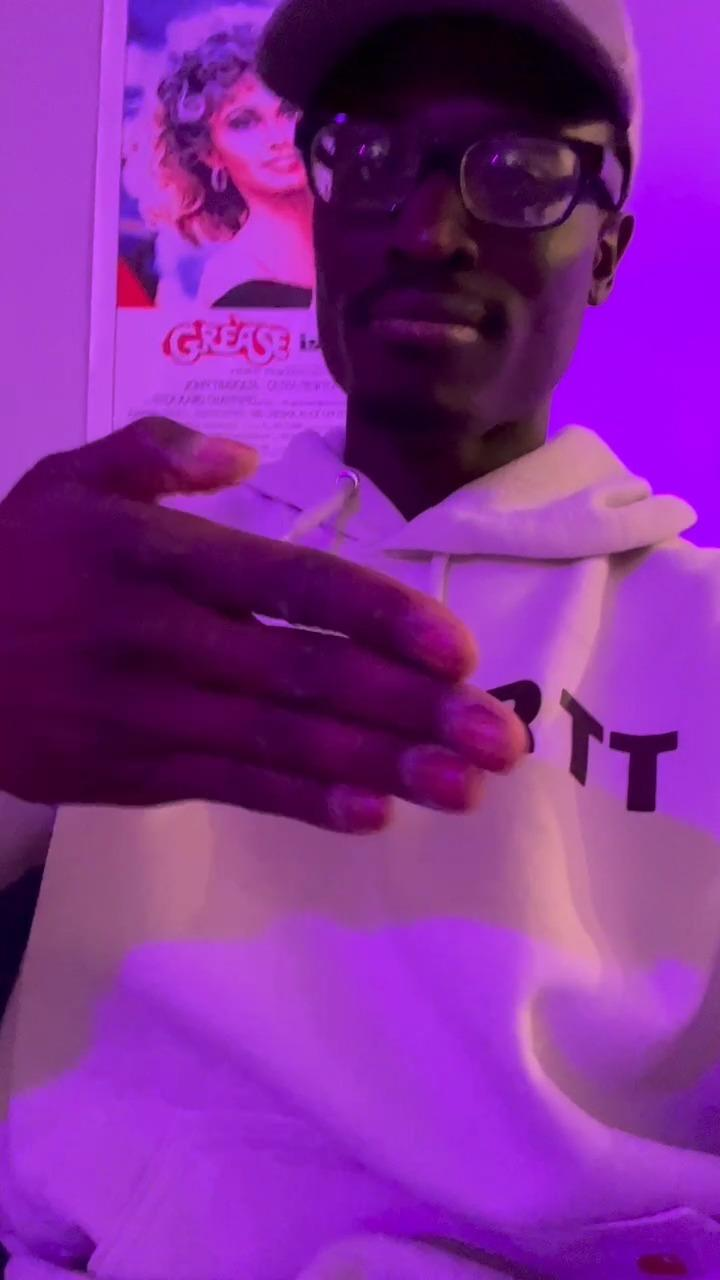Paper: (0, 412, 526, 831)
